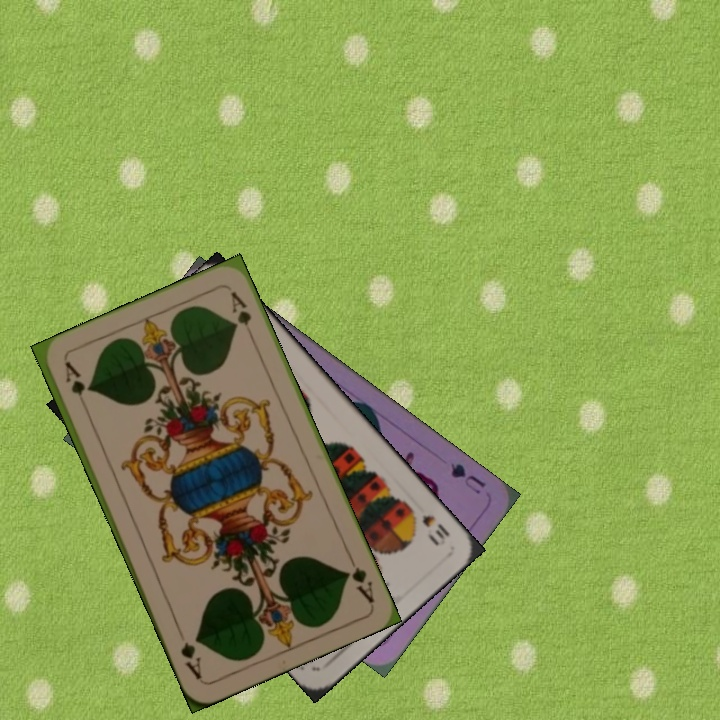GA: (341, 550, 377, 606), (60, 357, 91, 414)
GU: (446, 458, 489, 497)
S10: (406, 503, 453, 548)
